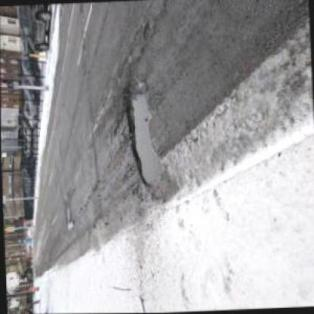Hueco: (122, 79, 160, 187)
